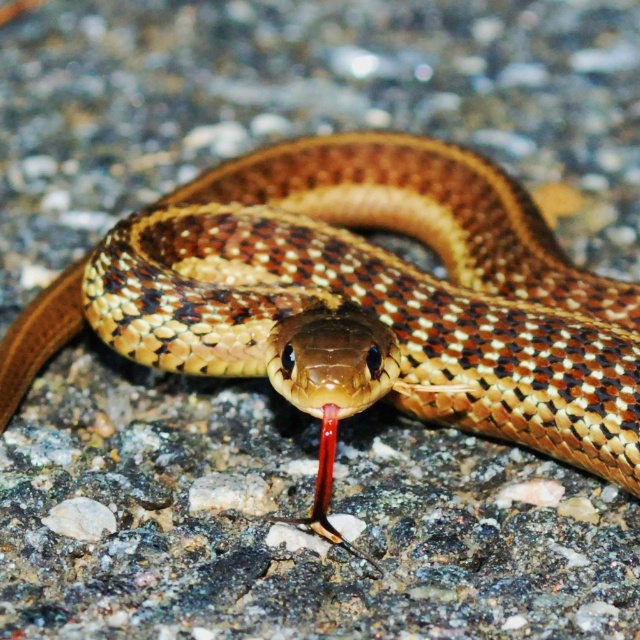Snake: (0, 130, 640, 580)
